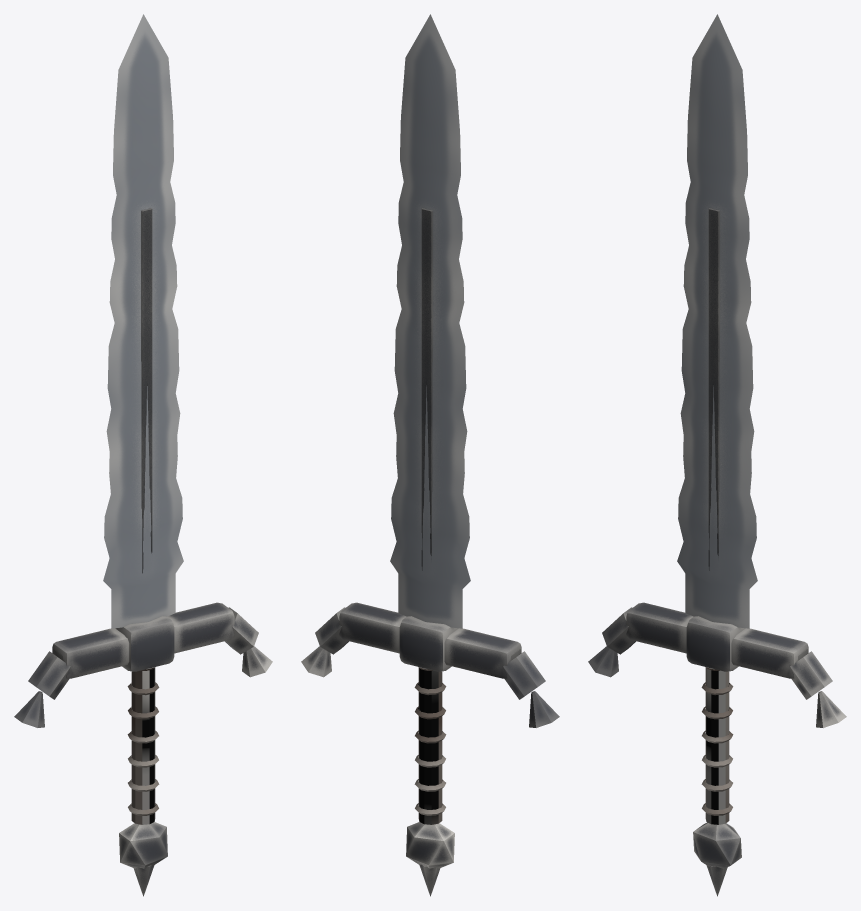
The model's file is weapon_greatsword.glb.
3 renders of one model, left to right at view 1: azimuth 30°, elevation 25°; view 2: azimuth 150°, elevation 25°; view 3: azimuth 330°, elevation 25°, orthographic.
Visible parts, largest first — view 1: weapon_greatsword; view 2: weapon_greatsword; view 3: weapon_greatsword.
Part boxes in pixels (left/top/right/bottom): weapon_greatsword: left=14, top=14, right=272, bottom=896; weapon_greatsword: left=301, top=14, right=559, bottom=896; weapon_greatsword: left=588, top=14, right=846, bottom=896.
Size of the model in its own units: 0.5272 by 1.78 by 0.075.
1 material, 1 textured.
